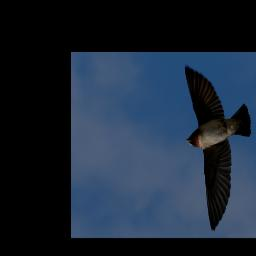Swallow: (184, 66, 252, 232)
